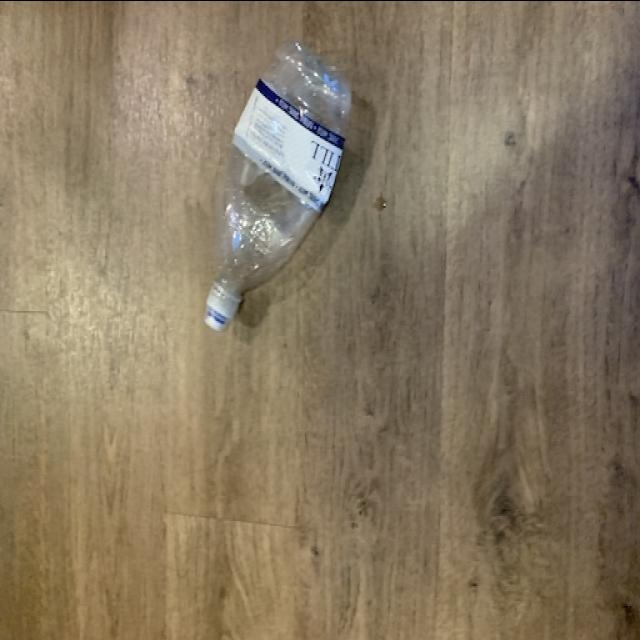PET: (193, 37, 375, 345)
